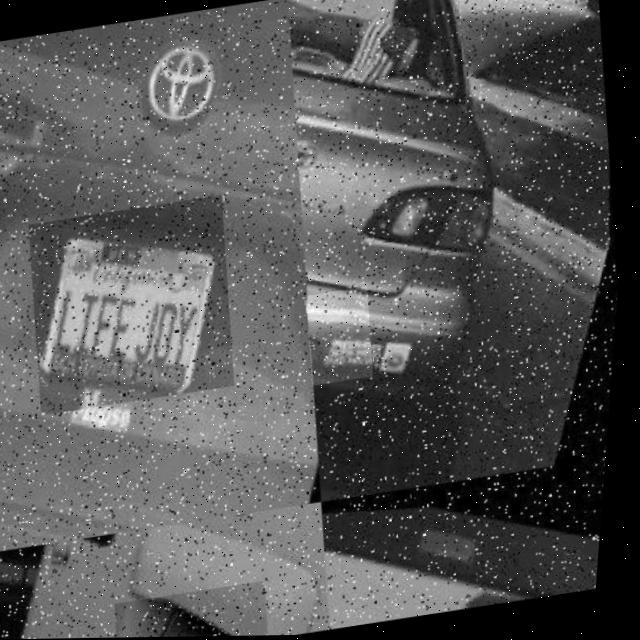LicensePlate: (21, 195, 251, 416), (122, 581, 282, 638), (306, 287, 384, 387)
